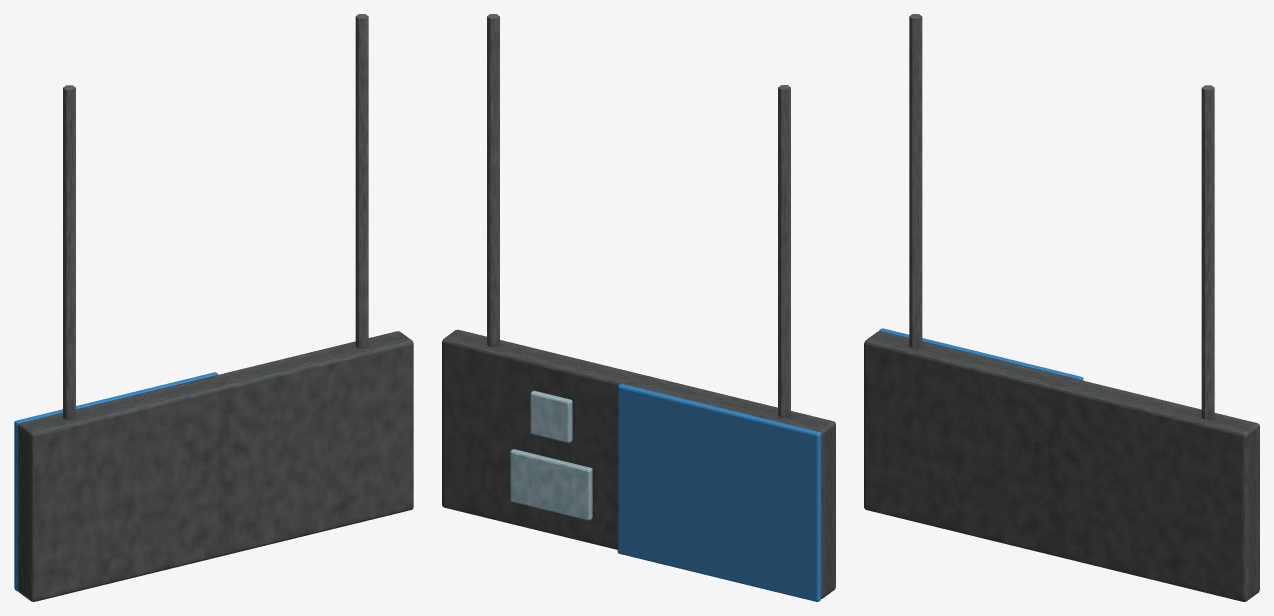
Rendered from base_hanging_sign_personnel.glb.
3 views of the same model, side by side, from view 1: azimuth 30°, elevation 25°; view 2: azimuth 150°, elevation 25°; view 3: azimuth 330°, elevation 25° (orthographic).
Visible parts, largest first — view 1: base_hanging_sign_personnel; view 2: base_hanging_sign_personnel; view 3: base_hanging_sign_personnel.
Boxes of the visible parts, x1,y1,x2,y2 form: base_hanging_sign_personnel: (14,14,413,601); base_hanging_sign_personnel: (442,14,835,601); base_hanging_sign_personnel: (864,14,1259,601).
Bounding box in the file's own units: 1.7 × 2.12 × 0.145.
3 materials, 3 textured.
